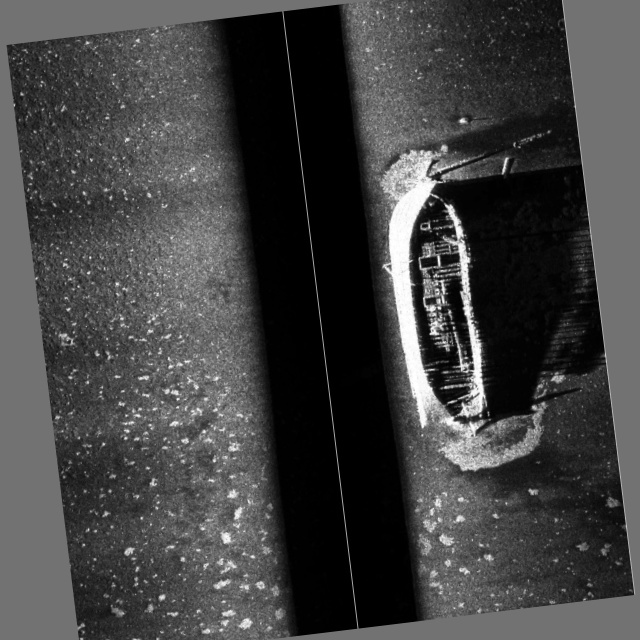Shipwreck: (367, 128, 586, 446)
